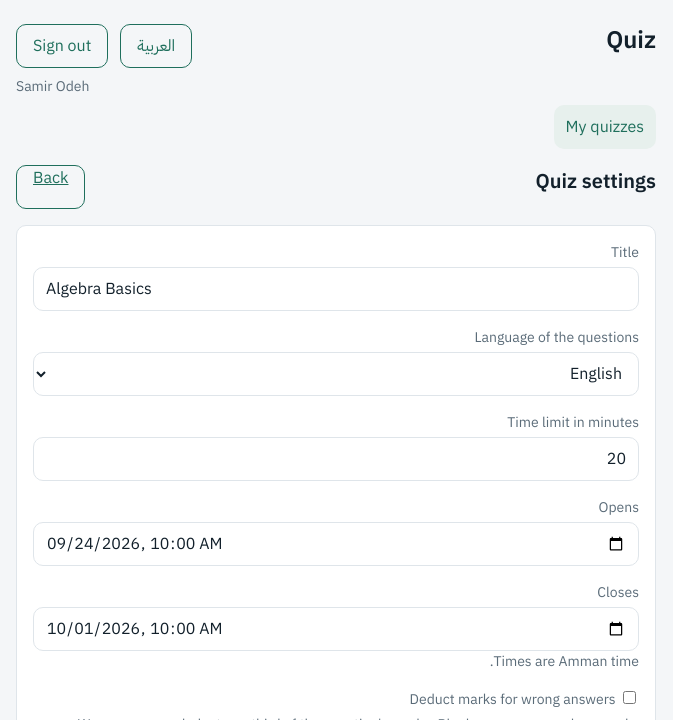
Test: the quiz editor › refuses to save a window that closes before it opens, without asking the server
Replace the text in the field labelled "Closes" with "2026-09-20T10:00" at (336, 629), box [33,607,639,651]
(page scrolled)
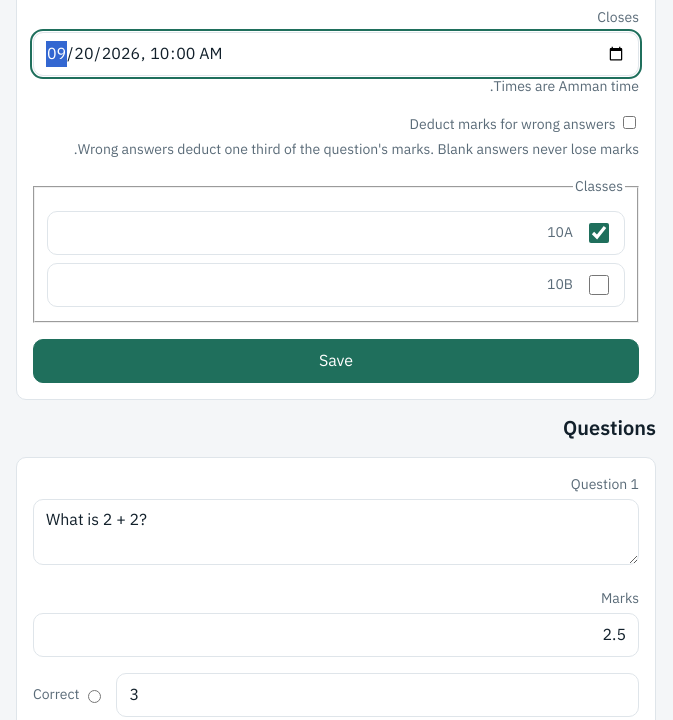
Click the button "Save".
click(336, 361)  # box [33,339,639,383]
(page scrolled)
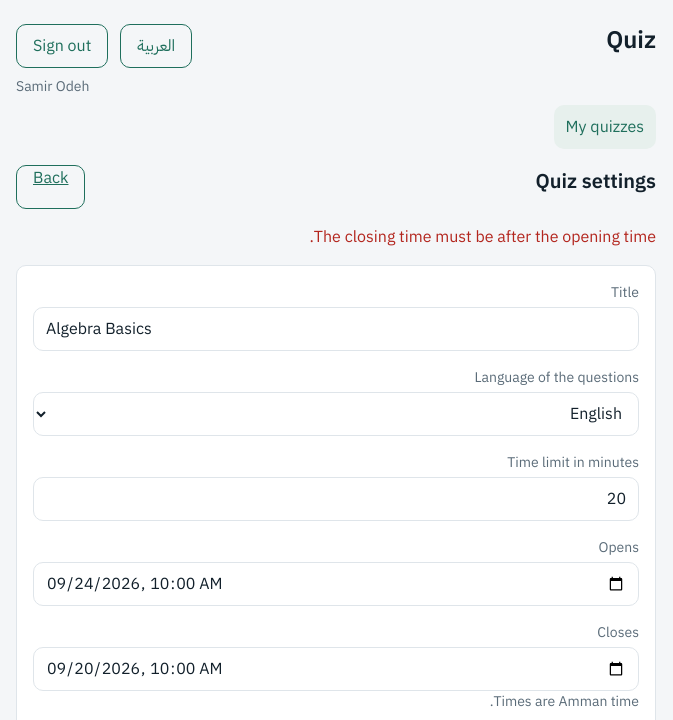
Result: the message reads "The closing time must be after the opening time." at [310,225,656,249]
